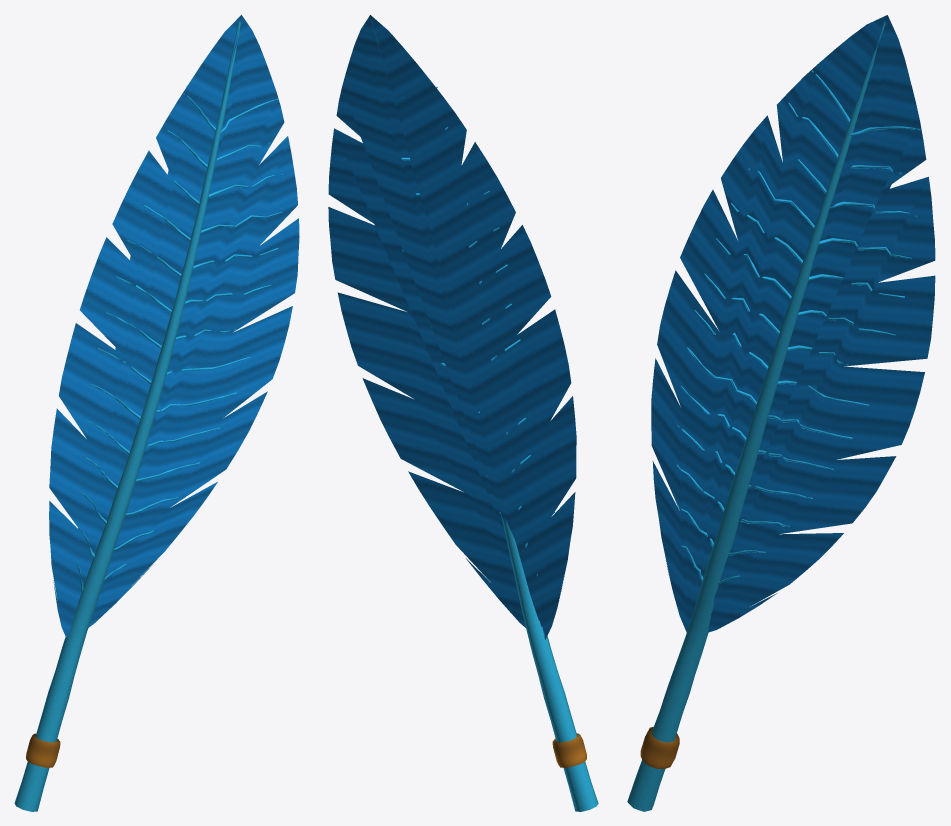
Rendered from rocs_feather.glb.
3 renders of one model, left to right at view 1: azimuth 30°, elevation 25°; view 2: azimuth 150°, elevation 25°; view 3: azimuth 330°, elevation 25°, orthographic. The views are drawn at different scales.
Parts seen in each view (by area): view 1: Connected vane with six open tuft clefts (×2), Curved quill, Quill gold binding; view 2: Notched vane underside (×2), Curved quill, Quill gold binding; view 3: Connected vane with six open tuft clefts (×2), Curved quill, Quill gold binding.
Part boxes in pixels (x1,y1,x2,y2): Connected vane with six open tuft clefts (×2): (49, 15, 299, 638); Curved quill: (14, 21, 240, 811); Quill gold binding: (26, 733, 60, 767); Notched vane underside (×2): (328, 15, 576, 639); Curved quill: (372, 21, 598, 811); Quill gold binding: (552, 733, 586, 767); Connected vane with six open tuft clefts (×2): (651, 15, 935, 632); Curved quill: (627, 21, 885, 811); Quill gold binding: (640, 726, 679, 769).
Bounding box in the file's own units: 64.35 × 166 × 9.07.
4 materials, 4 textured.
